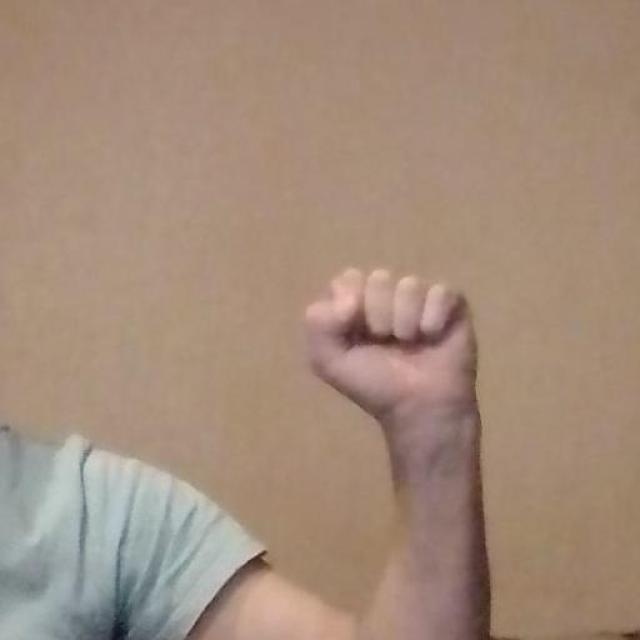hand: (301, 263, 481, 467)
